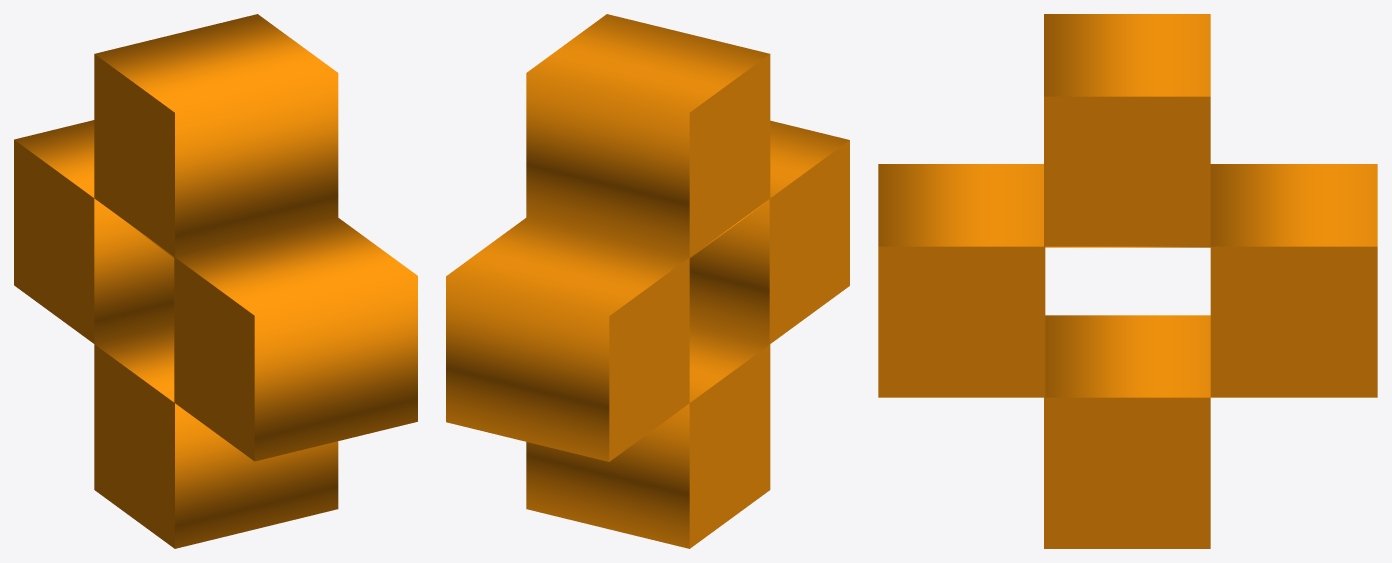
The model's file is uncommon.glb.
3 views of the same model, side by side, from view 1: azimuth 30°, elevation 25°; view 2: azimuth 150°, elevation 25°; view 3: azimuth 270°, elevation 25° (orthographic). The views are drawn at different scales.
Parts seen in each view (by area): view 1: Curve.006; view 2: Curve.006; view 3: Curve.006.
Boxes of the visible parts, <box> form: Curve.006: <box>14,14,417,548</box>; Curve.006: <box>446,14,849,548</box>; Curve.006: <box>878,14,1377,548</box>.
Bounding box in the file's own units: 0.4 × 1.02 × 1.02.
